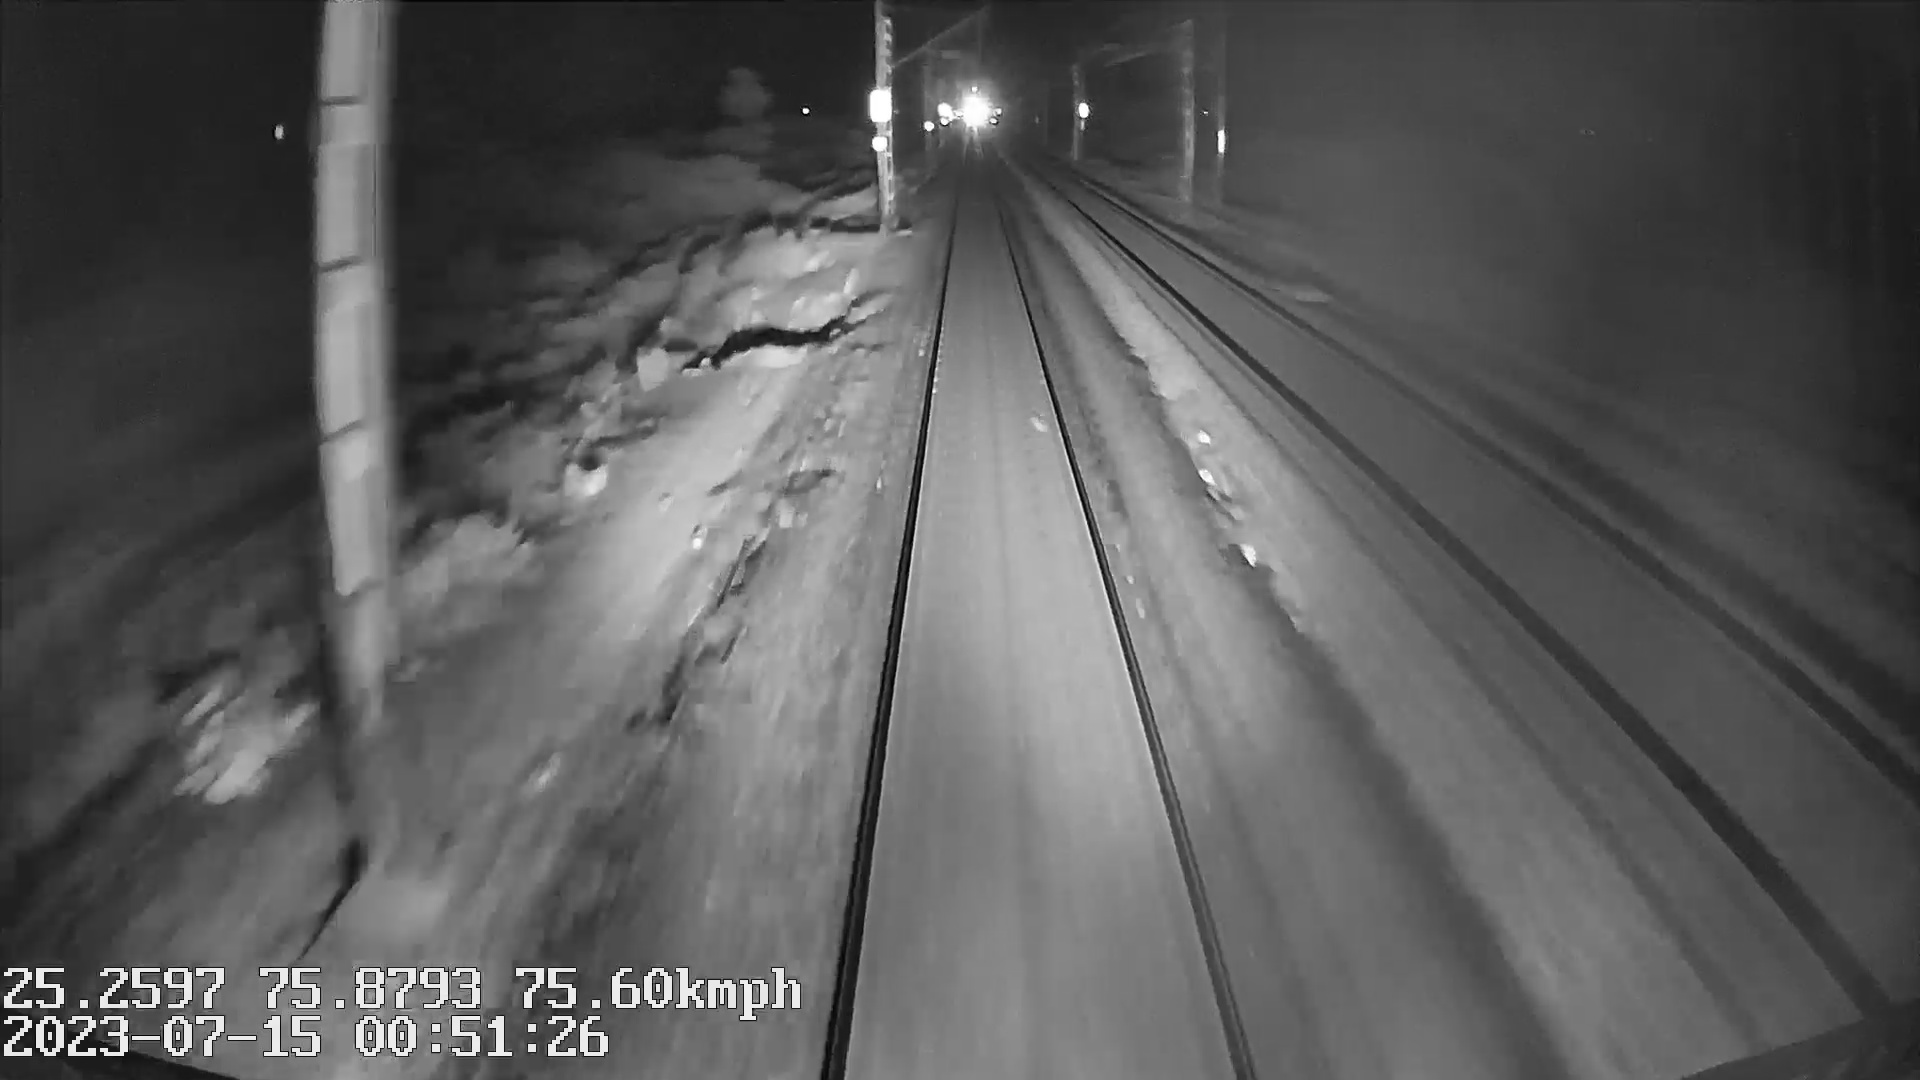track1: (833, 179, 1233, 1040)
track2: (1056, 182, 1904, 891)
